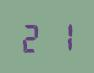one: (47, 19, 74, 52)
two: (19, 20, 46, 53)
